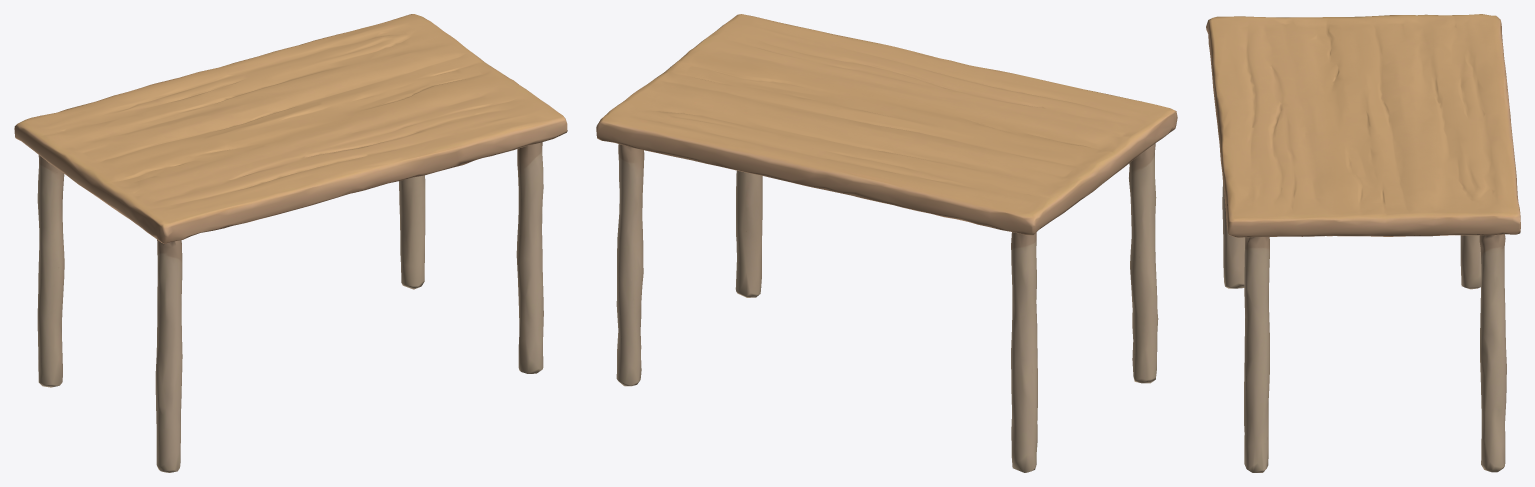
Rendered from raw_table.glb.
3 renders of one model, left to right at view 1: azimuth 30°, elevation 25°; view 2: azimuth 150°, elevation 25°; view 3: azimuth 270°, elevation 25°, orthographic. The views are drawn at different scales.
Visible parts, largest first — view 1: tripo_node_35da8c14-3775-4c72-84f4-5571cc7bd467; view 2: tripo_node_35da8c14-3775-4c72-84f4-5571cc7bd467; view 3: tripo_node_35da8c14-3775-4c72-84f4-5571cc7bd467.
Part boxes in pixels (box(x1,y1,x2,y2)): tripo_node_35da8c14-3775-4c72-84f4-5571cc7bd467: box(14, 14, 567, 472); tripo_node_35da8c14-3775-4c72-84f4-5571cc7bd467: box(596, 14, 1177, 472); tripo_node_35da8c14-3775-4c72-84f4-5571cc7bd467: box(1206, 14, 1520, 472).
Size of the model in its own units: 1 by 0.5951 by 0.6427.
Materials: 1 (1 with a texture image).
